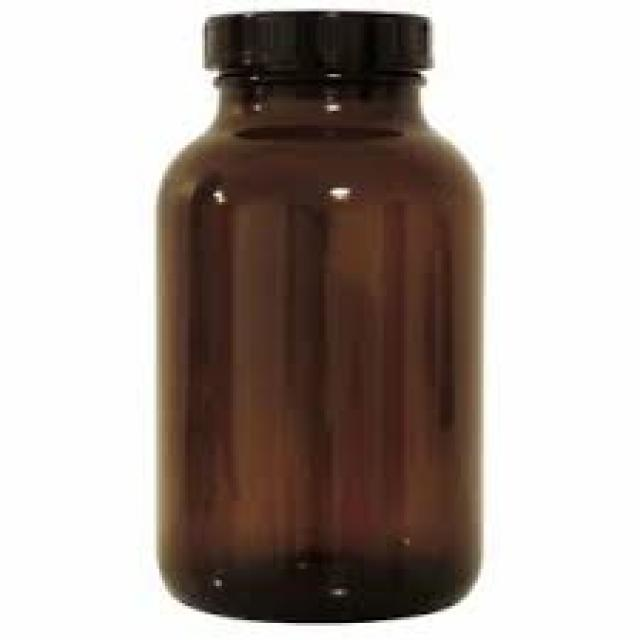glass: (153, 68, 478, 620)
metal: (199, 8, 427, 77)
